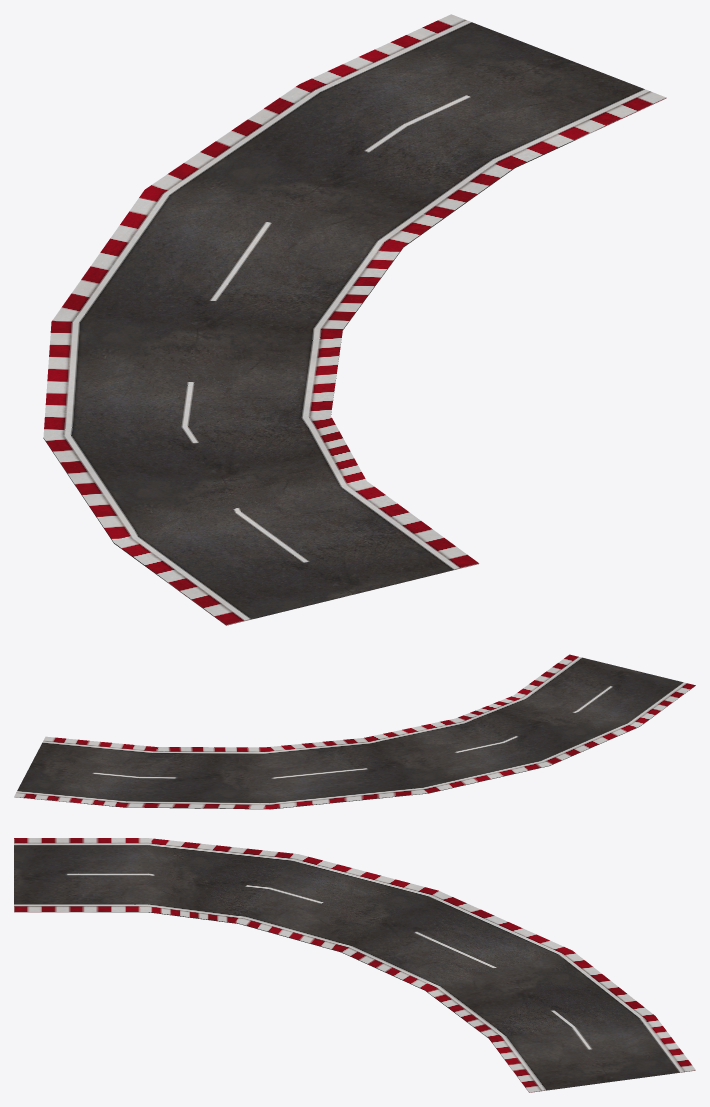
Rendered from road_C.FBX.
3 views of the same model, one above another, from view 1: azimuth 30°, elevation 25°; view 2: azimuth 150°, elevation 25°; view 3: azimuth 270°, elevation 25° (orthographic). The views are drawn at different scales.
Visible parts, largest first — view 1: road_C; view 2: road_C; view 3: road_C.
Boxes of the visible parts, x1,y1,x2,y2 form: road_C: [43, 14, 666, 625]; road_C: [14, 654, 695, 809]; road_C: [14, 838, 695, 1092].
Bounding box in the file's own units: 2168 × 1.97 × 2457.
